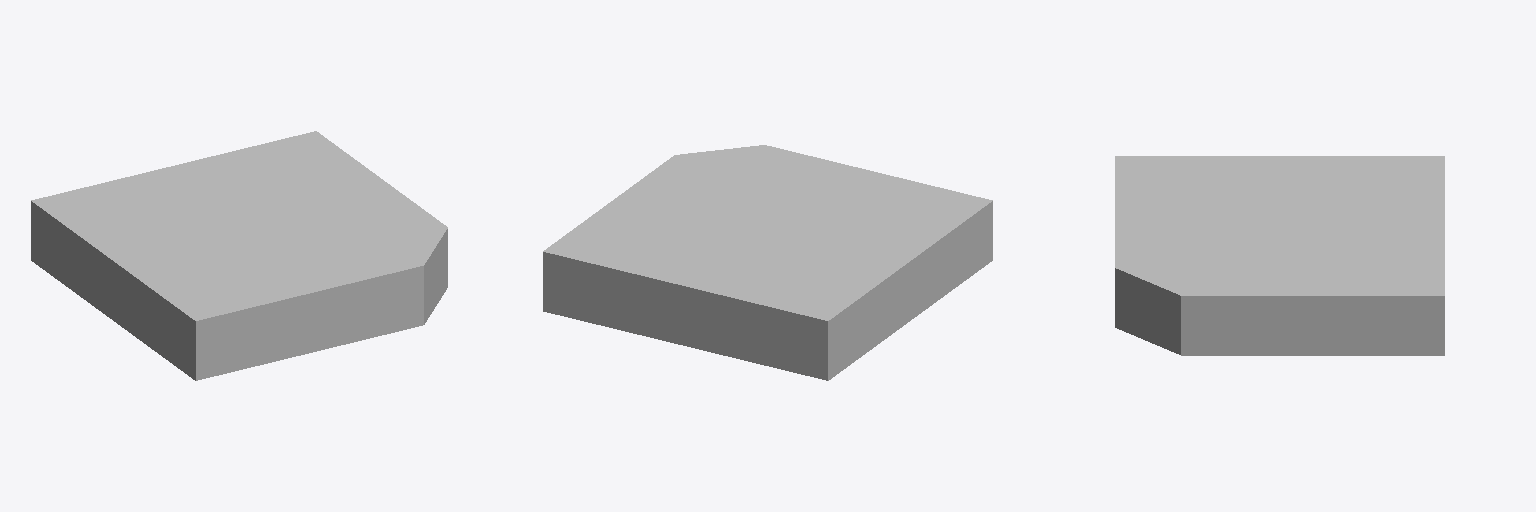
The model's file is RoadCorner4.obj.
3 renders of one model, left to right at view 1: azimuth 30°, elevation 25°; view 2: azimuth 150°, elevation 25°; view 3: azimuth 270°, elevation 25°, orthographic.
Visible parts, largest first — view 1: CUBE1; view 2: CUBE1; view 3: CUBE1.
Part boxes in pixels (left/top/right/bottom): CUBE1: left=31, top=131, right=447, bottom=380; CUBE1: left=543, top=145, right=992, bottom=380; CUBE1: left=1115, top=156, right=1444, bottom=355.
Size of the model in its own units: 5 by 1 by 5.